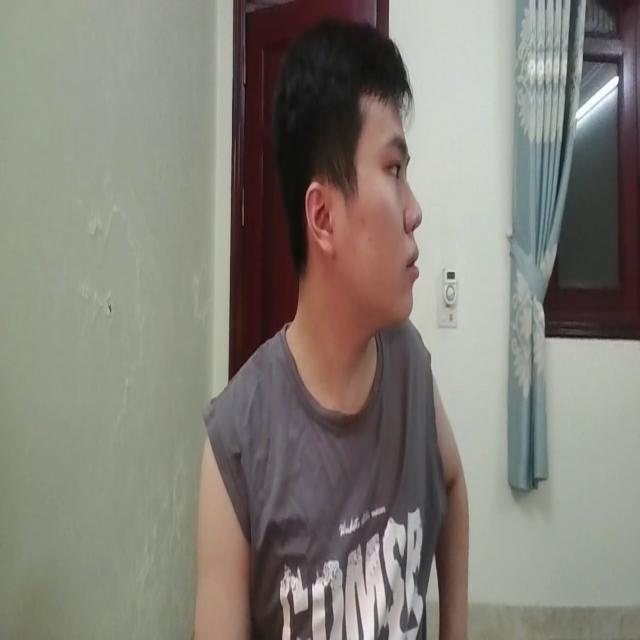student: (199, 13, 472, 640)
